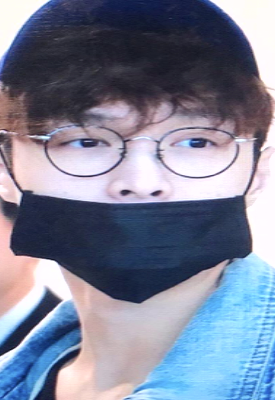mask_weared_incorrect: (6, 107, 254, 304)
